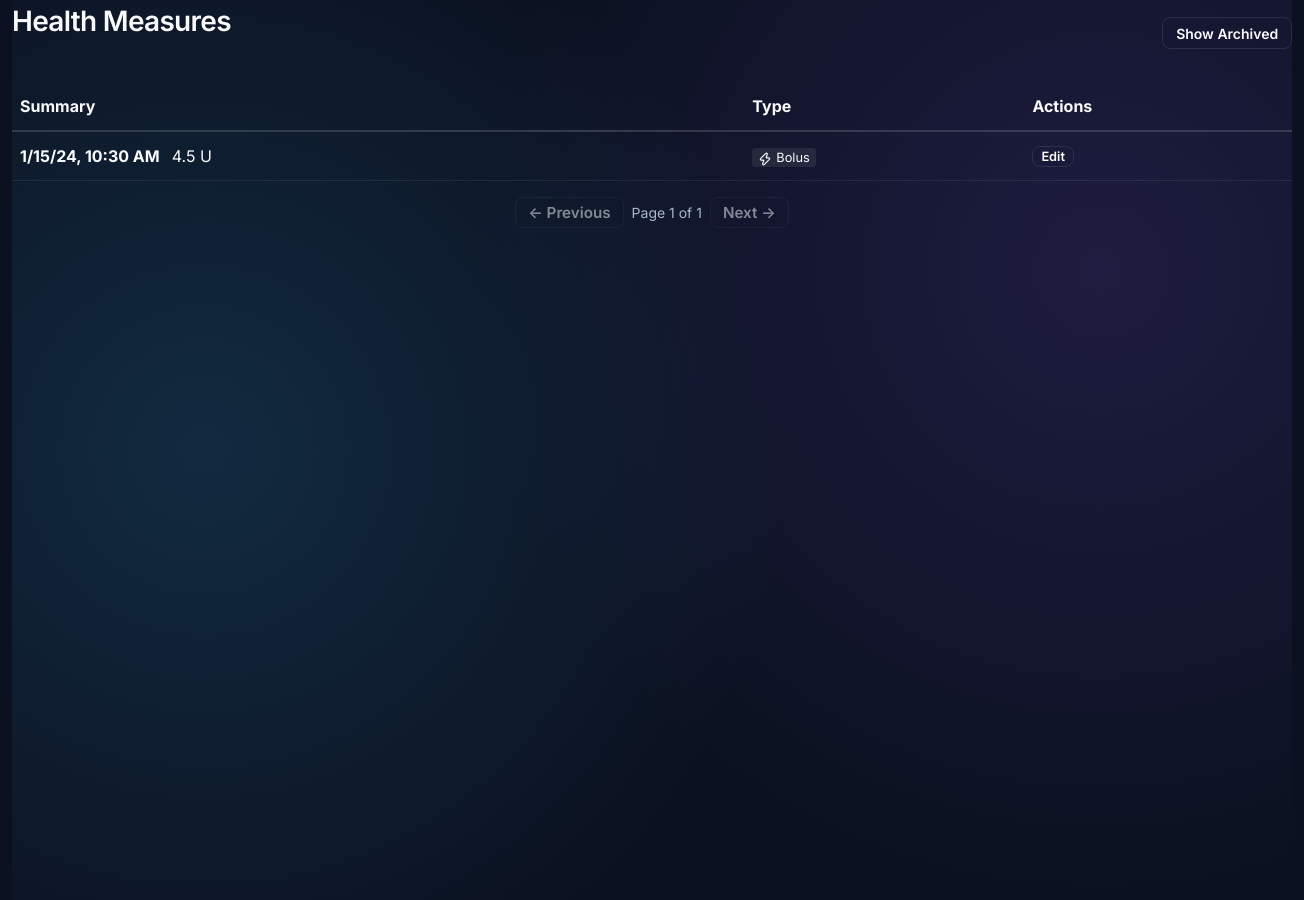
Scenario: TreatmentList › expands row details on row click
Check: the text "Bolus" is shown, box left=752, top=148, right=816, bottom=167
Click the button "1/15/24, 10:30 AM4.5 U Bolus Edit".
click(90, 156)  # box left=12, top=131, right=1292, bottom=180
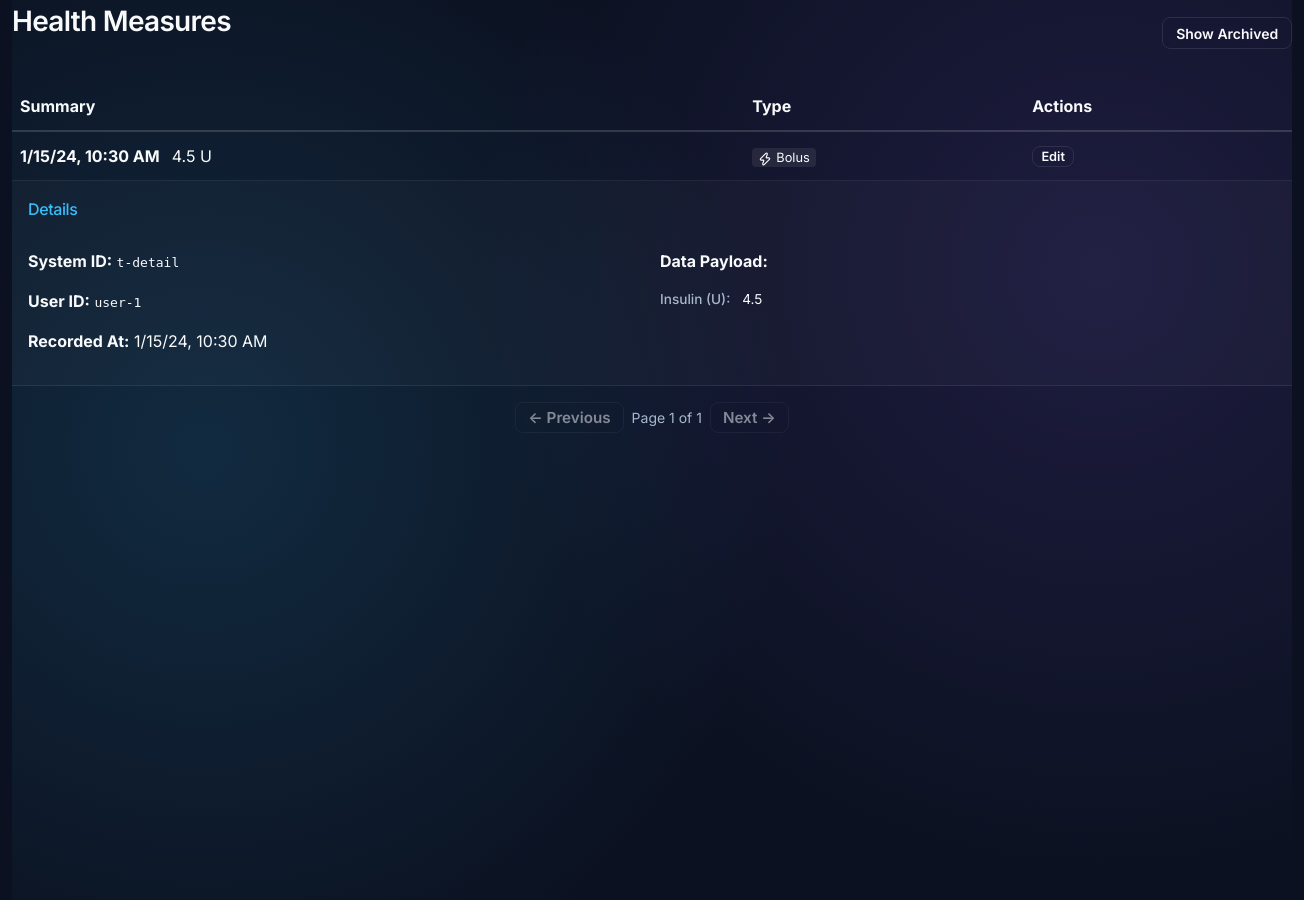
Check: the text "System ID:" is shown, box left=28, top=251, right=112, bottom=271
